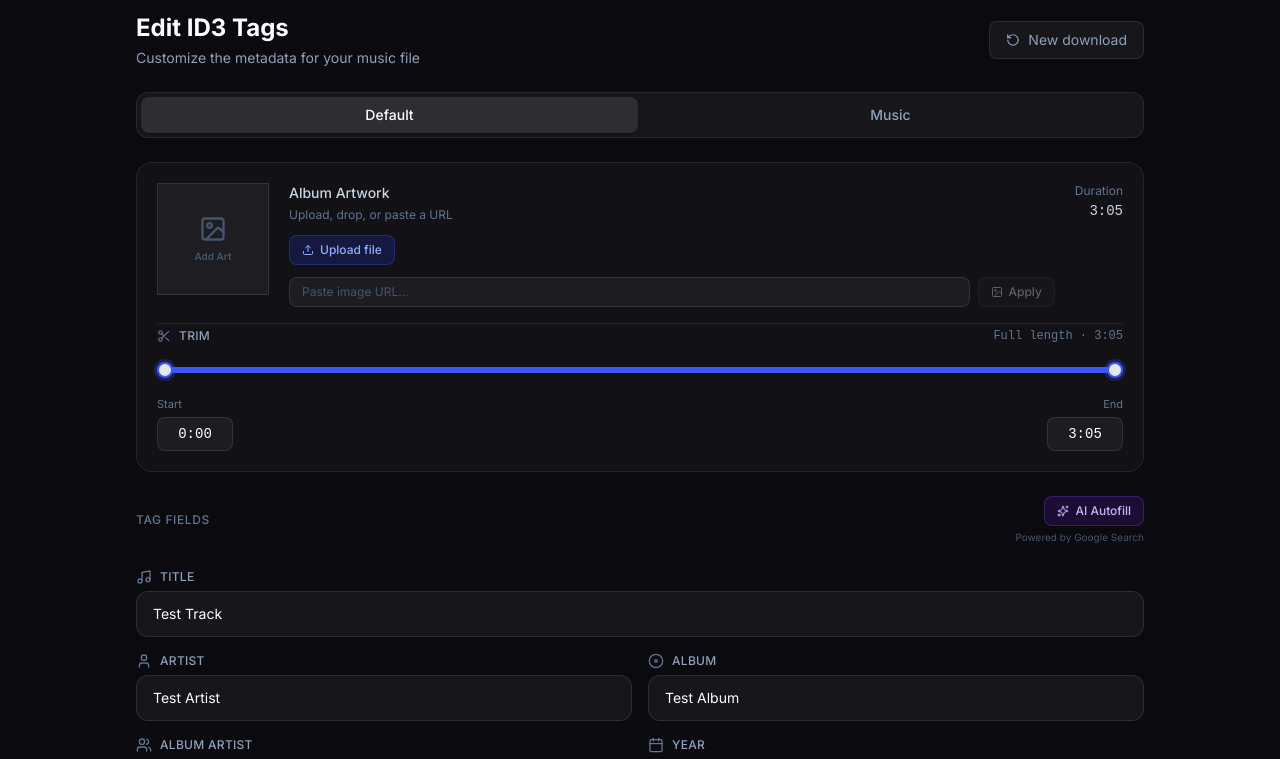
Scenario: TagEditor rendering › prefills Artist Name Mapping channel field with current artist
// Switch to Music tab — add-mapping inputs are visible outside the library popup
Click the button "music".
click(890, 115)  # box top-left (642, 97), bottom-right (1139, 133)
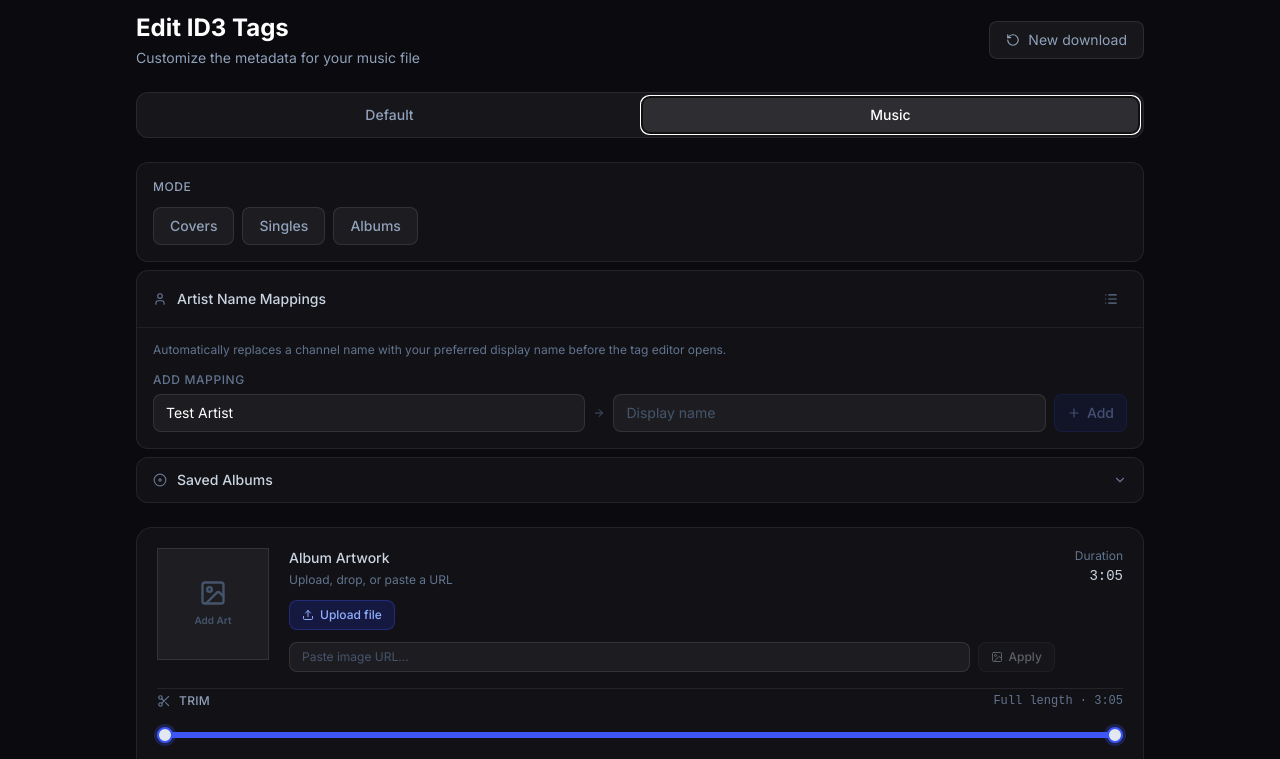
Expected: the field with placeholder "Channel name (exact)" holds "Test Artist", top-left (153, 394), bottom-right (585, 432)
